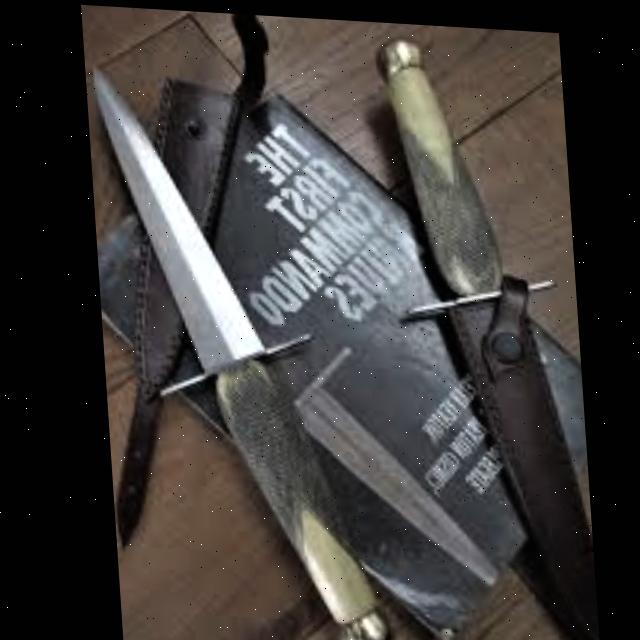Knife: (92, 64, 385, 640), (374, 31, 592, 640)
